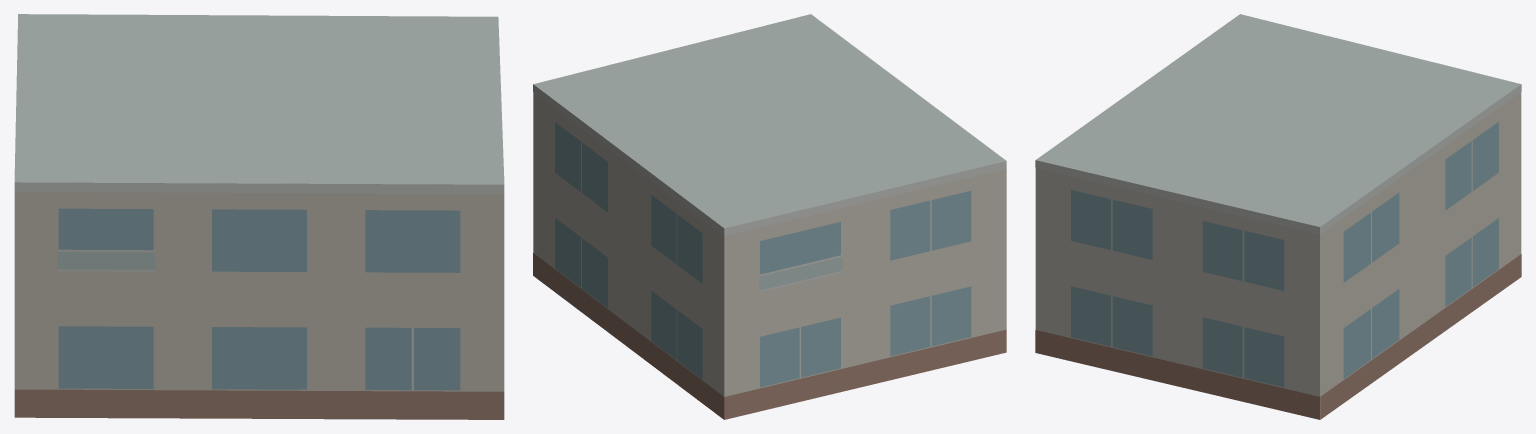
File: survey-upis-32933675.glb
3 renders of one model, left to right at view 1: azimuth 30°, elevation 25°; view 2: azimuth 150°, elevation 25°; view 3: azimuth 270°, elevation 25°, orthographic. The views are drawn at different scales.
Parts seen in each view (by area): view 1: survey-upis-32933675.tmp; view 2: survey-upis-32933675.tmp; view 3: survey-upis-32933675.tmp.
Part boxes in pixels (x1,y1,x2,y2): survey-upis-32933675.tmp: [14, 14, 504, 419]; survey-upis-32933675.tmp: [533, 14, 1006, 419]; survey-upis-32933675.tmp: [1035, 14, 1521, 419].
Size of the model in its own units: 14.47 by 6.1 by 13.95.
